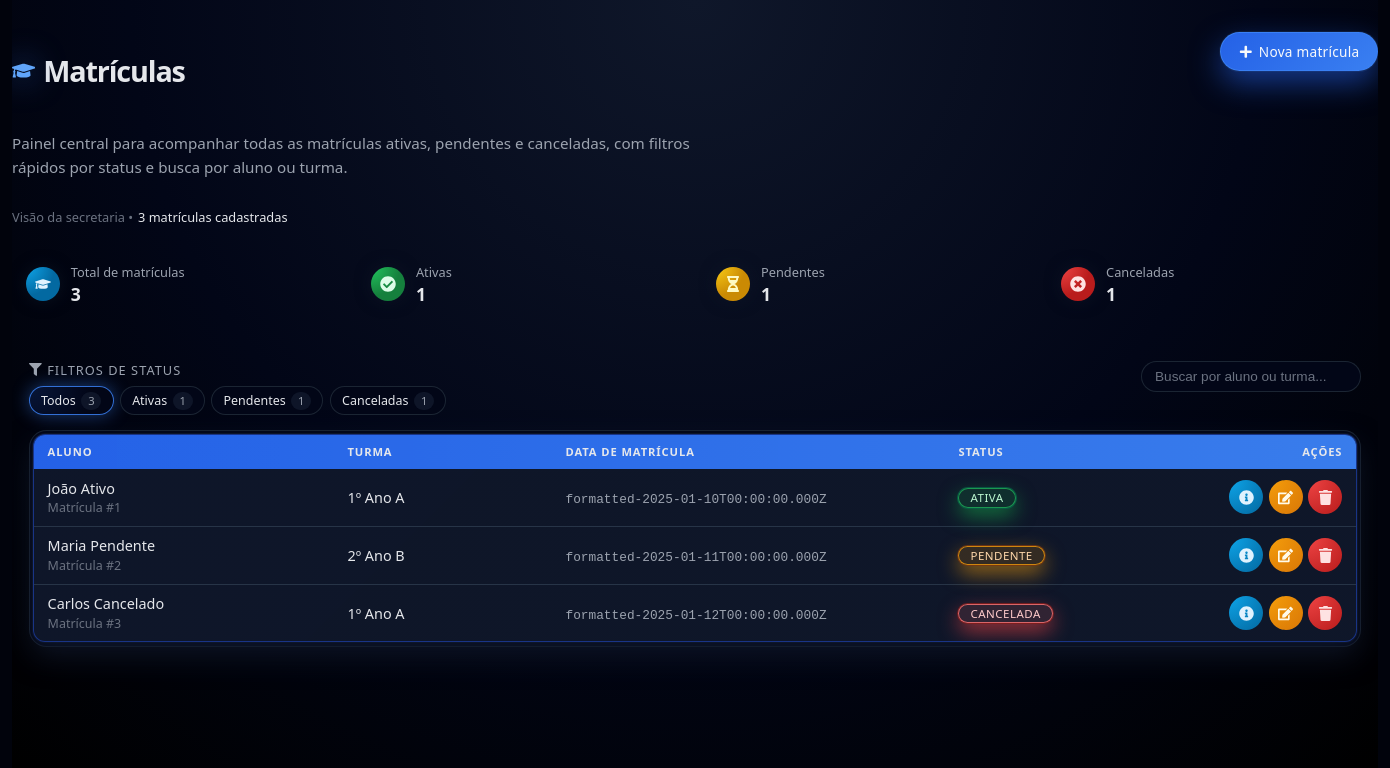
Scenario: EnrollmentsPage (dashboard) › filtra por status "Pendentes"
The width and height of the screenshot is (1390, 768).
Click the button "Pendentes 1": (267, 400) [211,386,324,415]
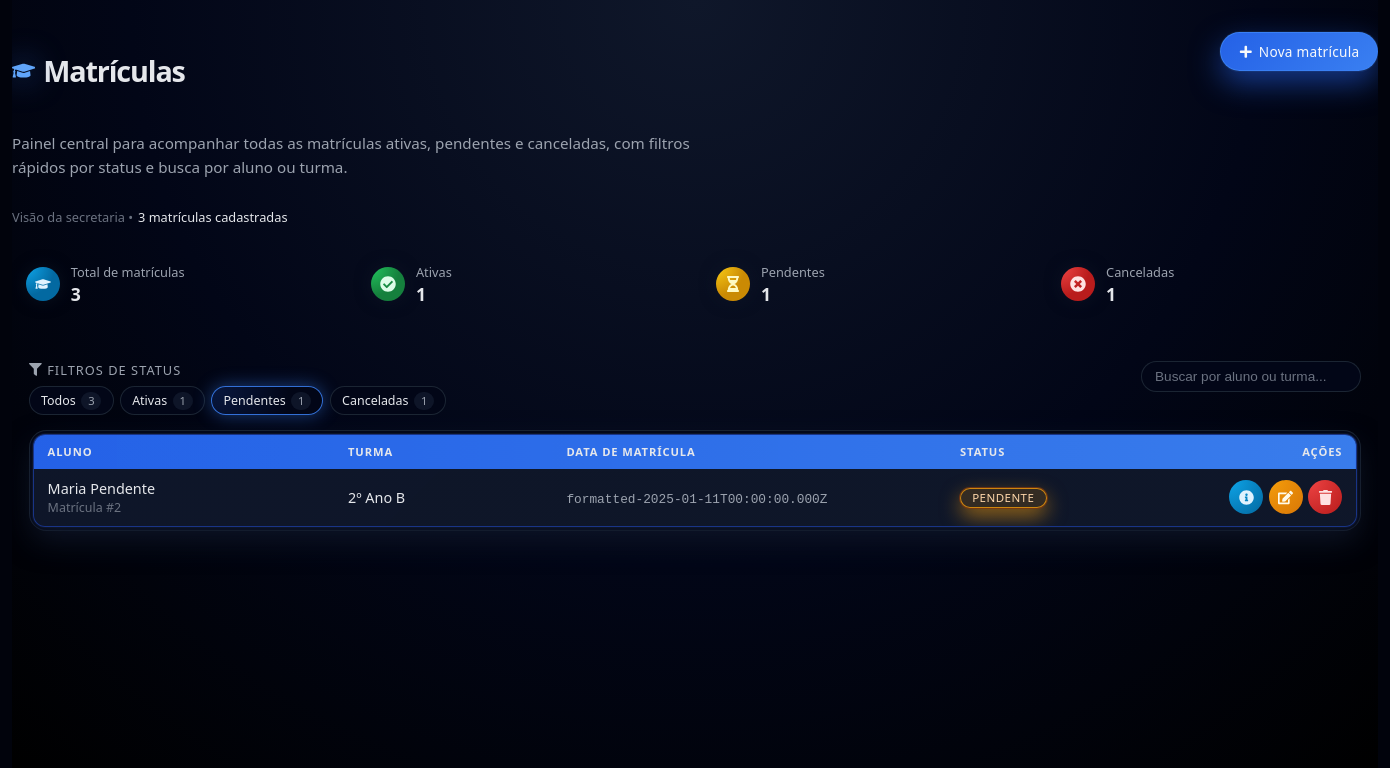
Expected: the text "Maria Pendente" is shown, [48,479,155,498]
Expected: the text "João Ativo" is gone
Expected: the text "Carlos Cancelado" is gone
